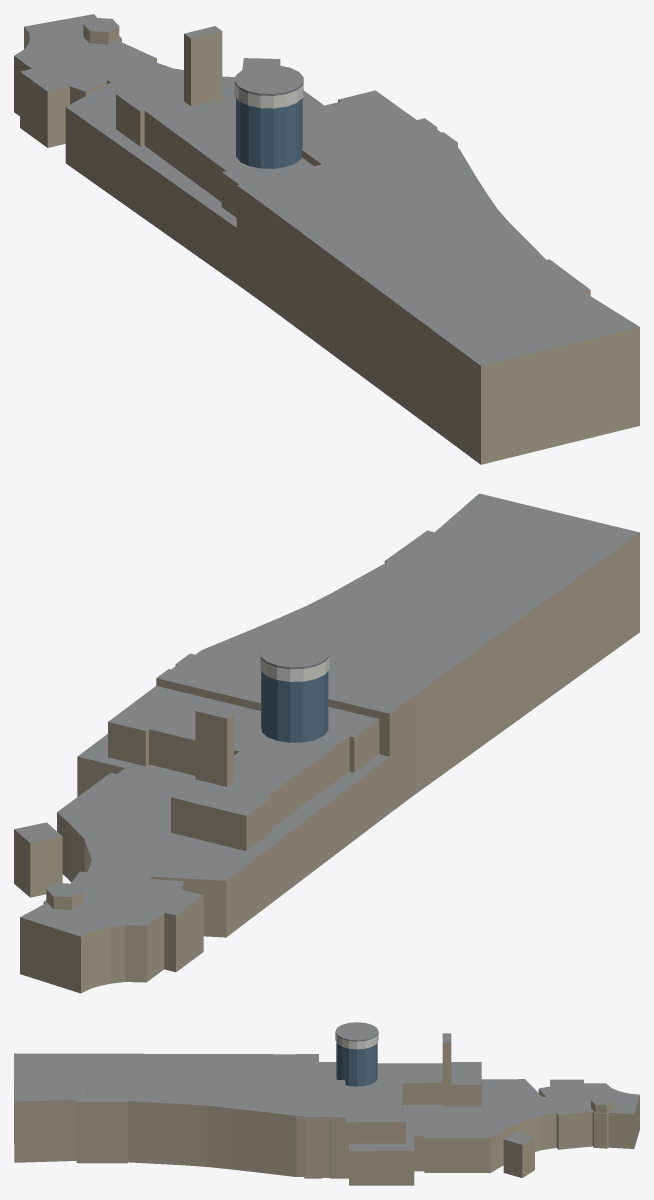
The model's file is bldg_w396972970.glb.
The picture shows the model from 3 angles, top to bottom: view 1: azimuth 30°, elevation 25°; view 2: azimuth 150°, elevation 25°; view 3: azimuth 270°, elevation 25°; orthographic projection. The views are drawn at different scales.
Visible parts, largest first — view 1: Bldg_W396972970; view 2: Bldg_W396972970; view 3: Bldg_W396972970.
Part boxes in pixels (bbox=[...]): Bldg_W396972970: bbox=[14, 14, 639, 464]; Bldg_W396972970: bbox=[14, 493, 639, 993]; Bldg_W396972970: bbox=[14, 1022, 639, 1185].
Size of the model in its own units: 65.38 by 43.8 by 241.
